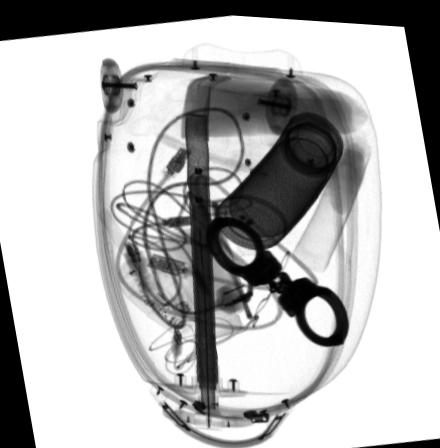HandCuffs: (204, 211, 352, 344)
